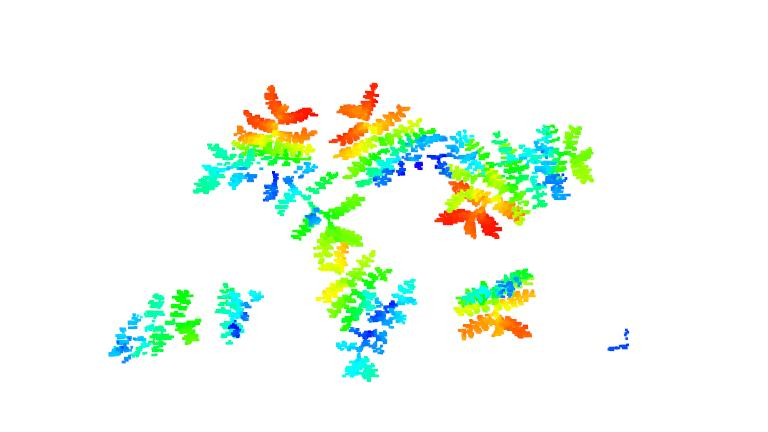chickpea: (195, 85, 360, 250), (431, 119, 595, 243), (319, 242, 415, 380), (331, 81, 438, 191), (105, 287, 203, 361), (451, 264, 536, 346), (212, 282, 266, 346)
